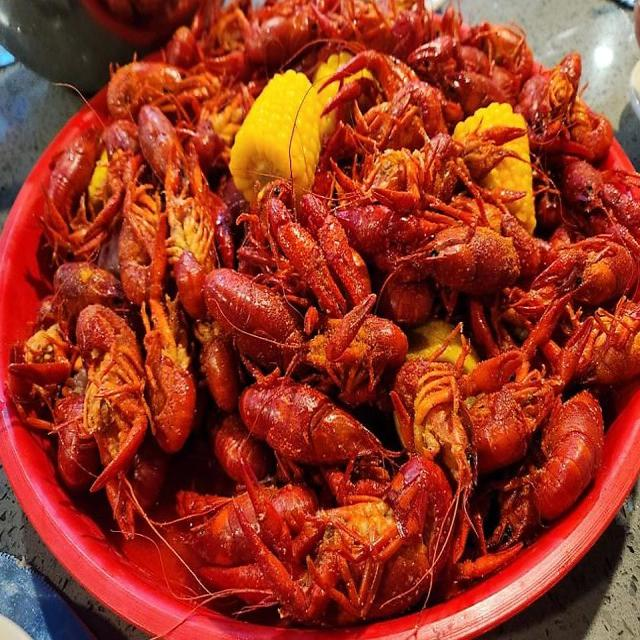Crawfish: (9, 0, 640, 625)
